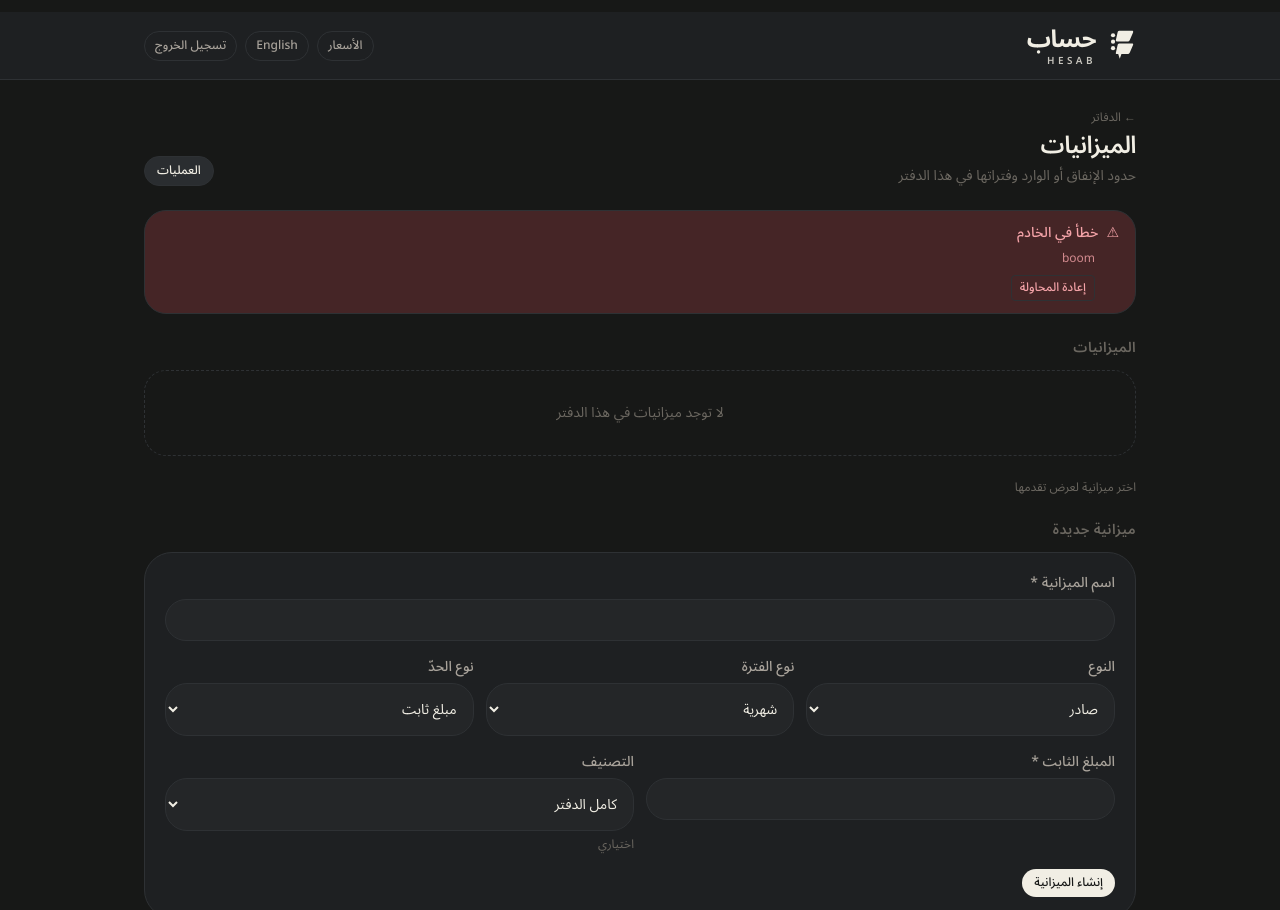
Test: BudgetsView › recovers from a failed list request when the user retries
Expected: the message shows "خطأ في الخادم", [1017,218,1098,248]
What coordinates should you click on to do the following:
click the button "إعادة المحاولة"
I would click on:
 (1053, 288)
Its box is [1011,276,1095,302].
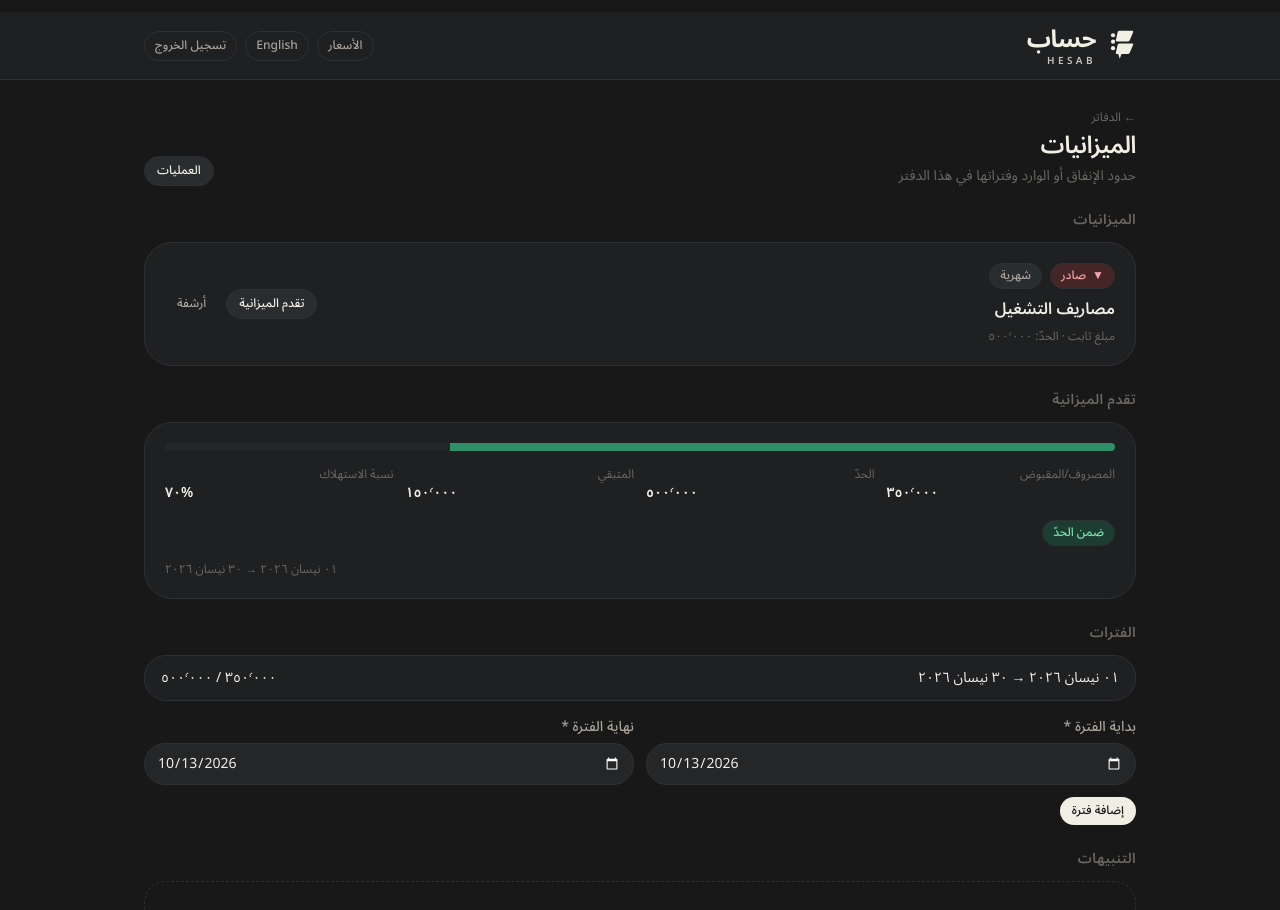
Now the text "مصاريف التشغيل" is shown, box [988,298,1115,322]
Now the message "⚠ خطأ في الخادم boom إعادة المحاولة" is gone
